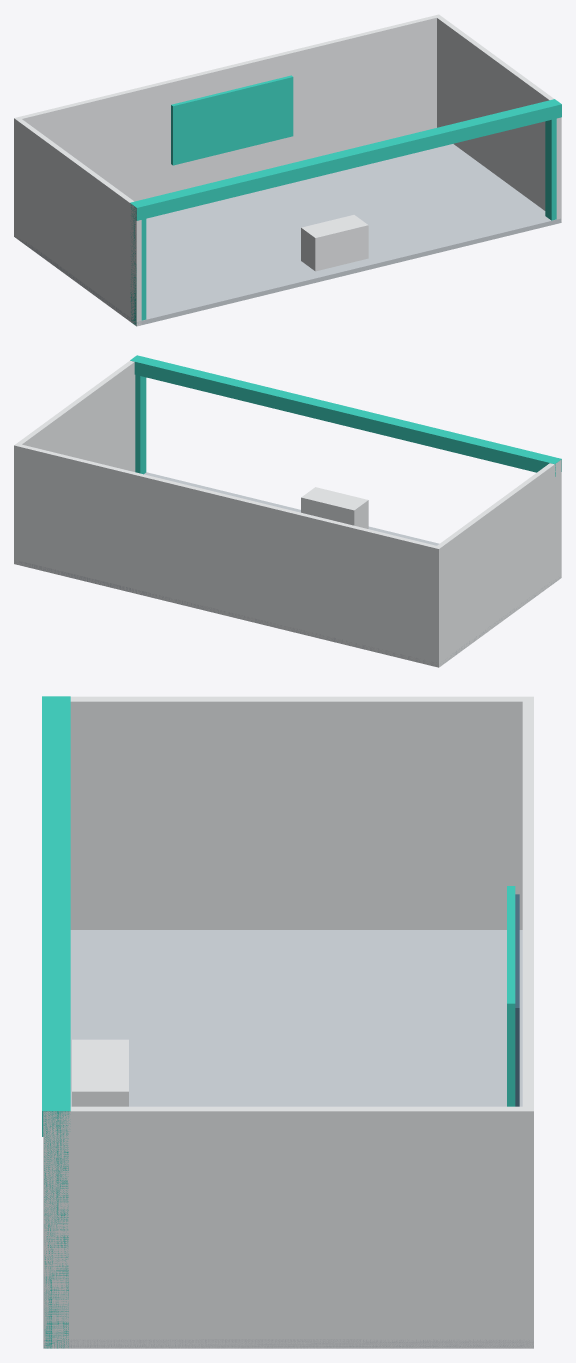
3 views of the same model, one above another, from view 1: azimuth 30°, elevation 25°; view 2: azimuth 150°, elevation 25°; view 3: azimuth 270°, elevation 25° (orthographic). The views are drawn at different scales.
Parts seen in each view (by area): view 1: Exhibition Booth Concept; view 2: Exhibition Booth Concept; view 3: Exhibition Booth Concept.
Part boxes in pixels (x1=…): Exhibition Booth Concept: x1=14, y1=14, x2=561, y2=326; Exhibition Booth Concept: x1=14, y1=355, x2=561, y2=667; Exhibition Booth Concept: x1=42, y1=696, x2=533, y2=1348.
Size of the model in its own units: 12 by 3.2 by 6.02.
